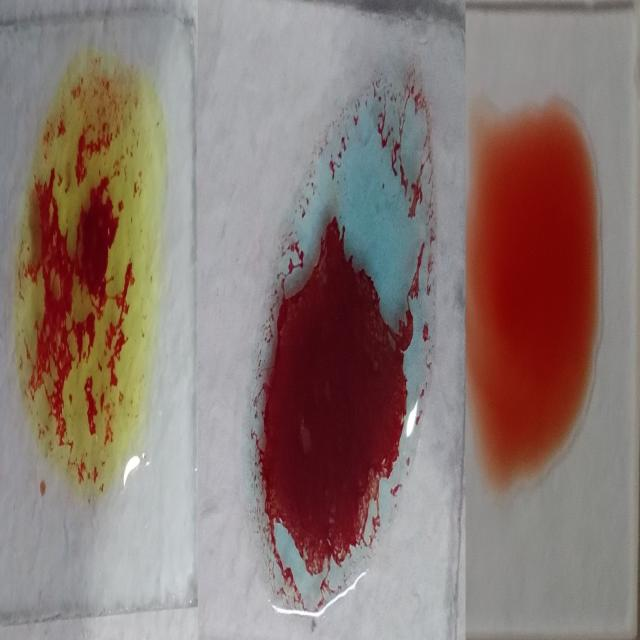A: (251, 57, 435, 615)
B: (17, 45, 157, 490)
